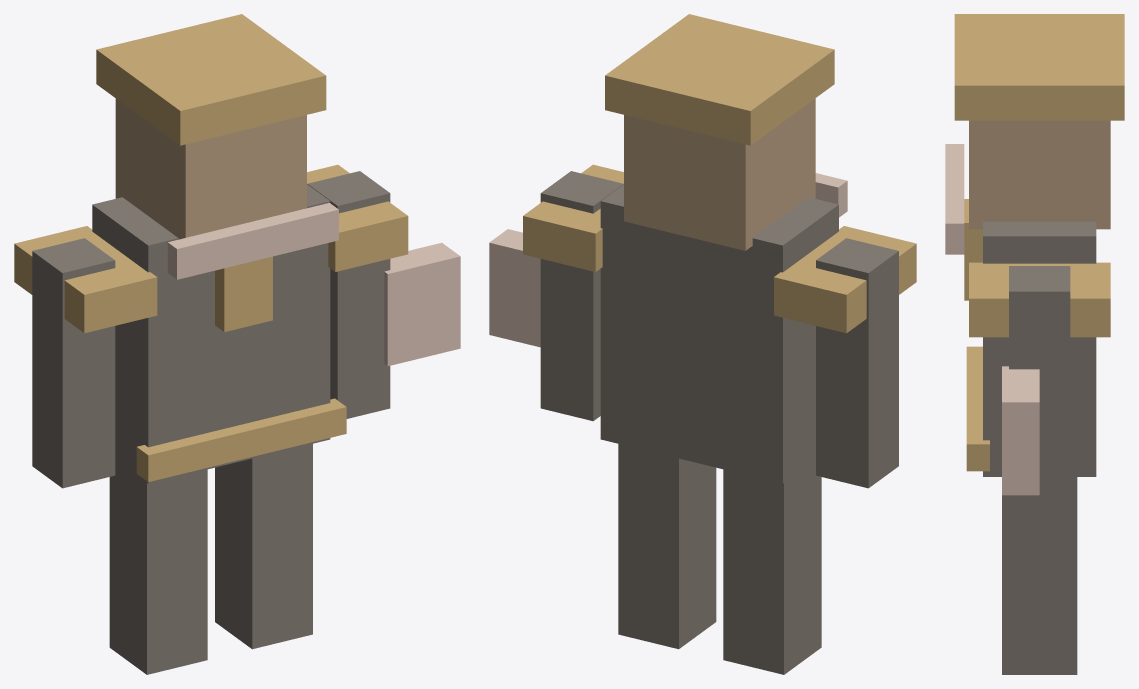
File: 01_zerin_riftwalker_tactician_from_pyre.glb
3 views of the same model, side by side, from view 1: azimuth 30°, elevation 25°; view 2: azimuth 150°, elevation 25°; view 3: azimuth 270°, elevation 25° (orthographic).
Parts seen in each view (by area): view 1: Zerin Riftwalker, Tactician from Pyre; view 2: Zerin Riftwalker, Tactician from Pyre; view 3: Zerin Riftwalker, Tactician from Pyre.
Boxes of the visible parts, box(x1,y1,x2,y2) form: Zerin Riftwalker, Tactician from Pyre: box(14, 14, 460, 674); Zerin Riftwalker, Tactician from Pyre: box(489, 14, 916, 674); Zerin Riftwalker, Tactician from Pyre: box(945, 14, 1124, 674).
Size of the model in its own units: 1.06 by 1.48 by 0.4131.
